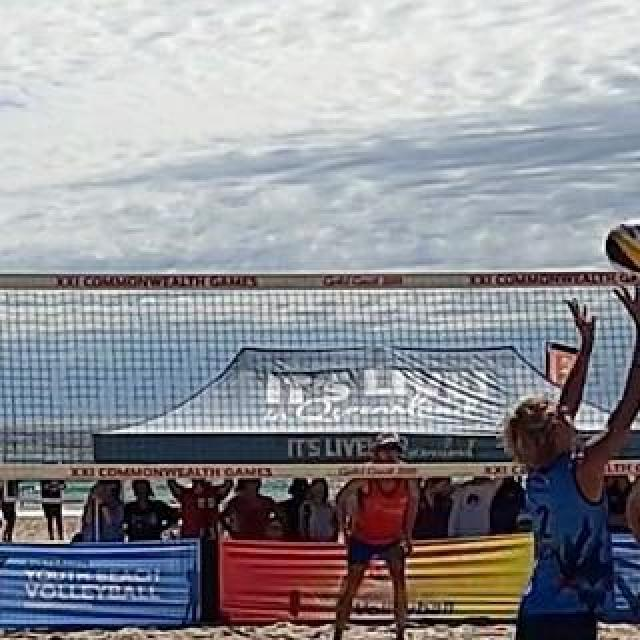volleyball: (604, 223, 640, 271)
